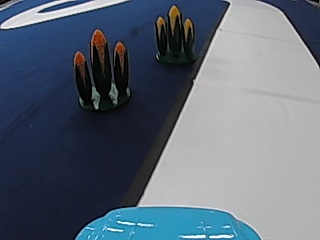corn: (73, 27, 135, 112), (152, 2, 198, 63)
